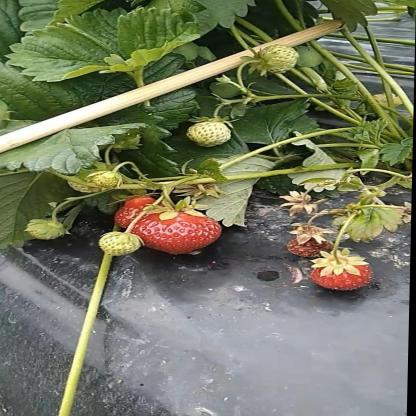ripe: (133, 212, 225, 257), (309, 258, 385, 292), (114, 195, 173, 228)
unripe: (285, 230, 335, 260), (257, 44, 305, 75), (184, 120, 233, 148), (63, 166, 108, 195), (98, 232, 139, 254), (27, 221, 67, 241), (93, 169, 123, 191)
